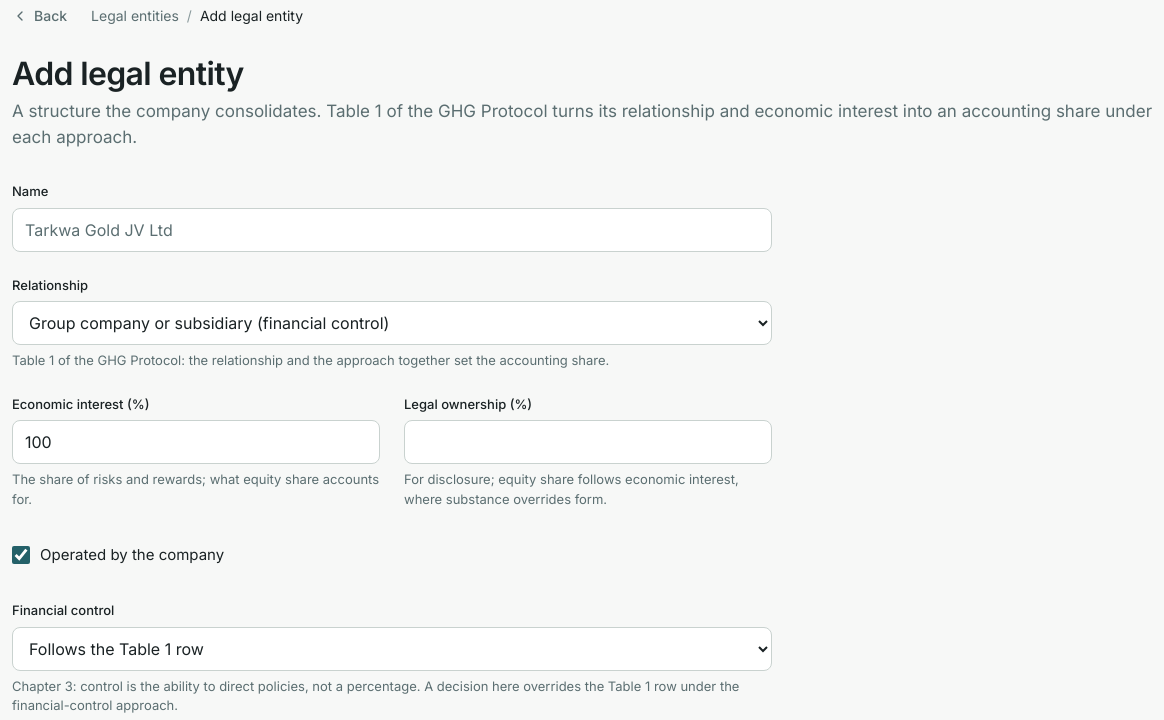
it: a material gap between economic interest and legal ownership shows a note (ticket T-24)
Clear the number field labelled "Economic interest (%)" at (196, 442), box [12,420,380,464]
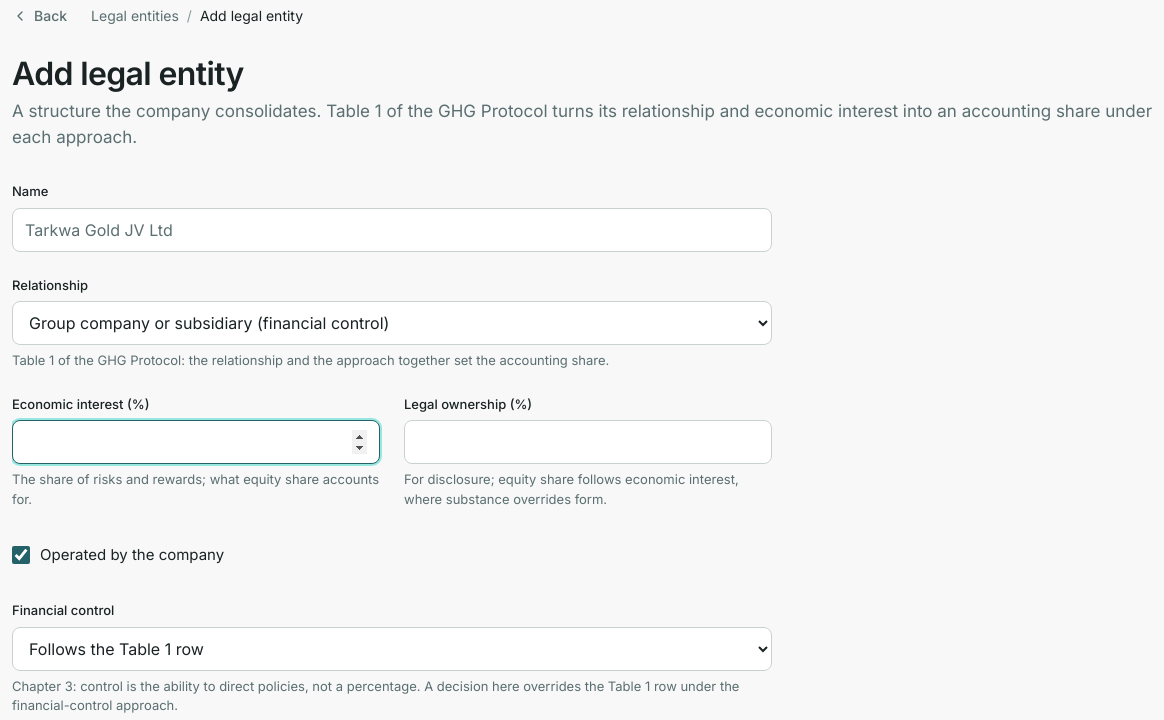
Type keys "60"
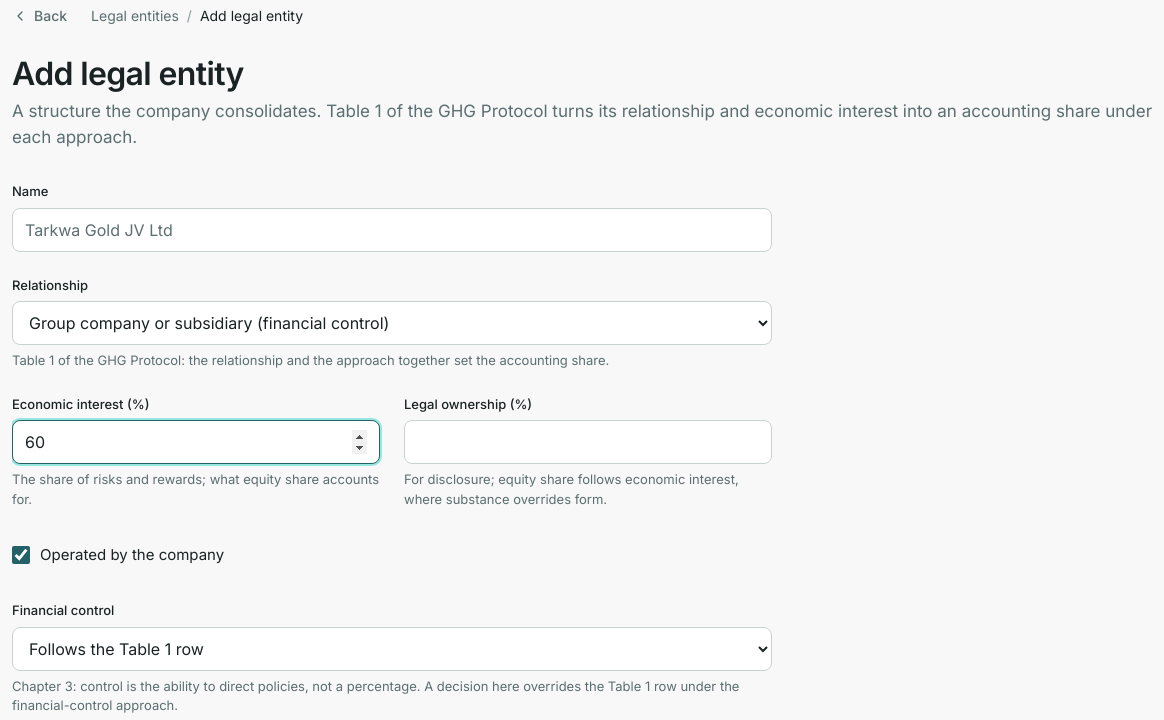
Click the number field labelled "Legal ownership (%)" at (588, 442), box [404,420,772,464]
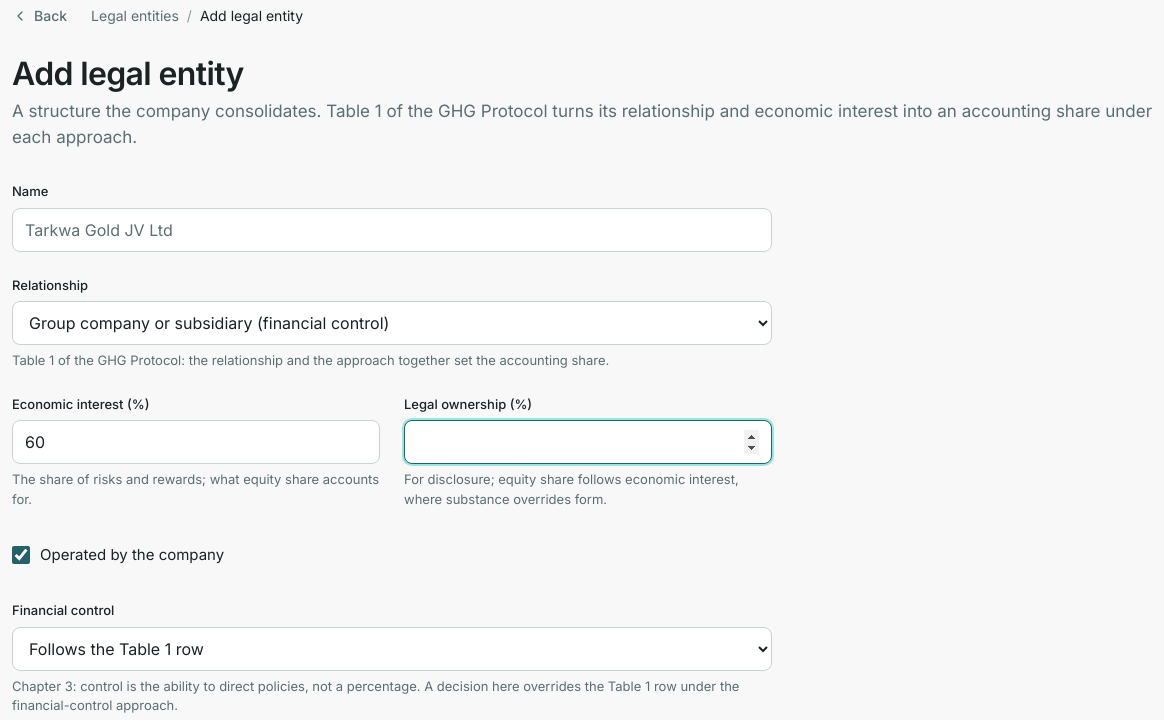
Type keys "20"
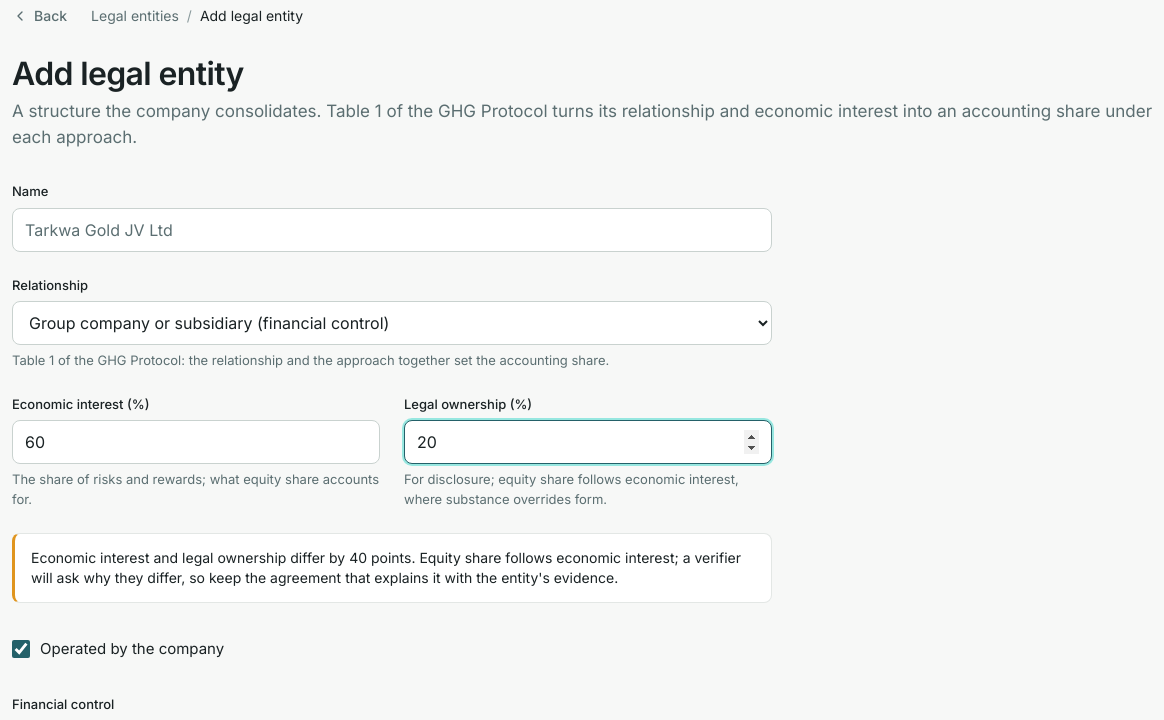
Expected: the text "Economic interest and legal ownership differ by 40 points" is shown, [31,548,755,588]
